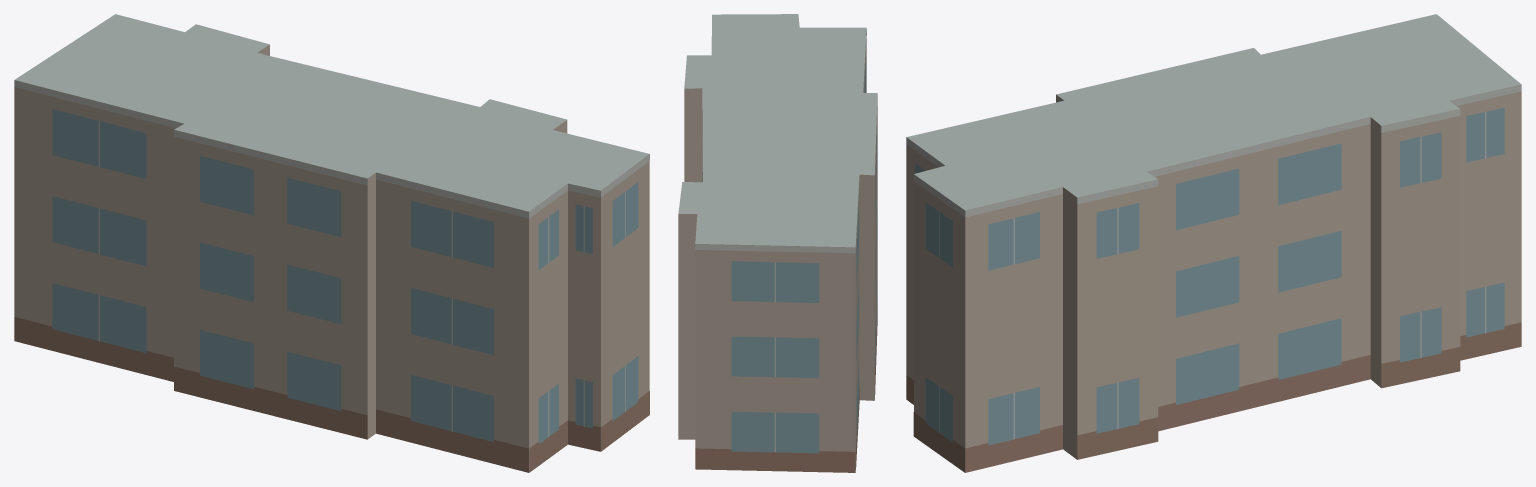
Rendered from survey-upis-32786657.glb.
3 views of the same model, side by side, from view 1: azimuth 30°, elevation 25°; view 2: azimuth 150°, elevation 25°; view 3: azimuth 270°, elevation 25° (orthographic). The views are drawn at different scales.
Visible parts, largest first — view 1: survey-upis-32786657.tmp; view 2: survey-upis-32786657.tmp; view 3: survey-upis-32786657.tmp.
Part boxes in pixels (bbox=[...]): survey-upis-32786657.tmp: bbox=[14, 14, 649, 472]; survey-upis-32786657.tmp: bbox=[678, 14, 877, 472]; survey-upis-32786657.tmp: bbox=[906, 14, 1521, 472].
Size of the model in its own units: 14.71 by 9.15 by 19.45.
